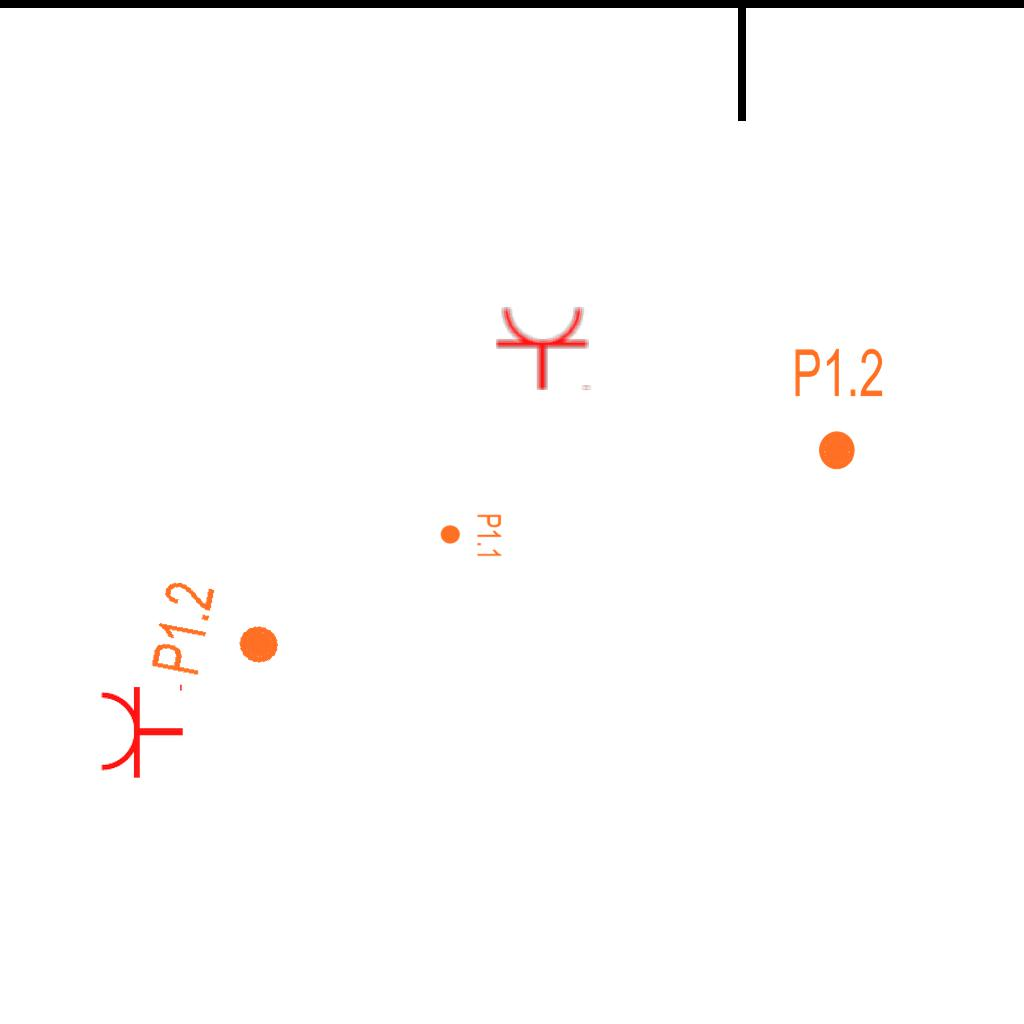Downlight_LED_Einbauleuchten_Flur: (146, 577, 291, 693), (792, 345, 885, 473), (439, 513, 503, 559)
Schukosteckdose_einfach: (494, 305, 594, 392), (98, 680, 185, 780)
